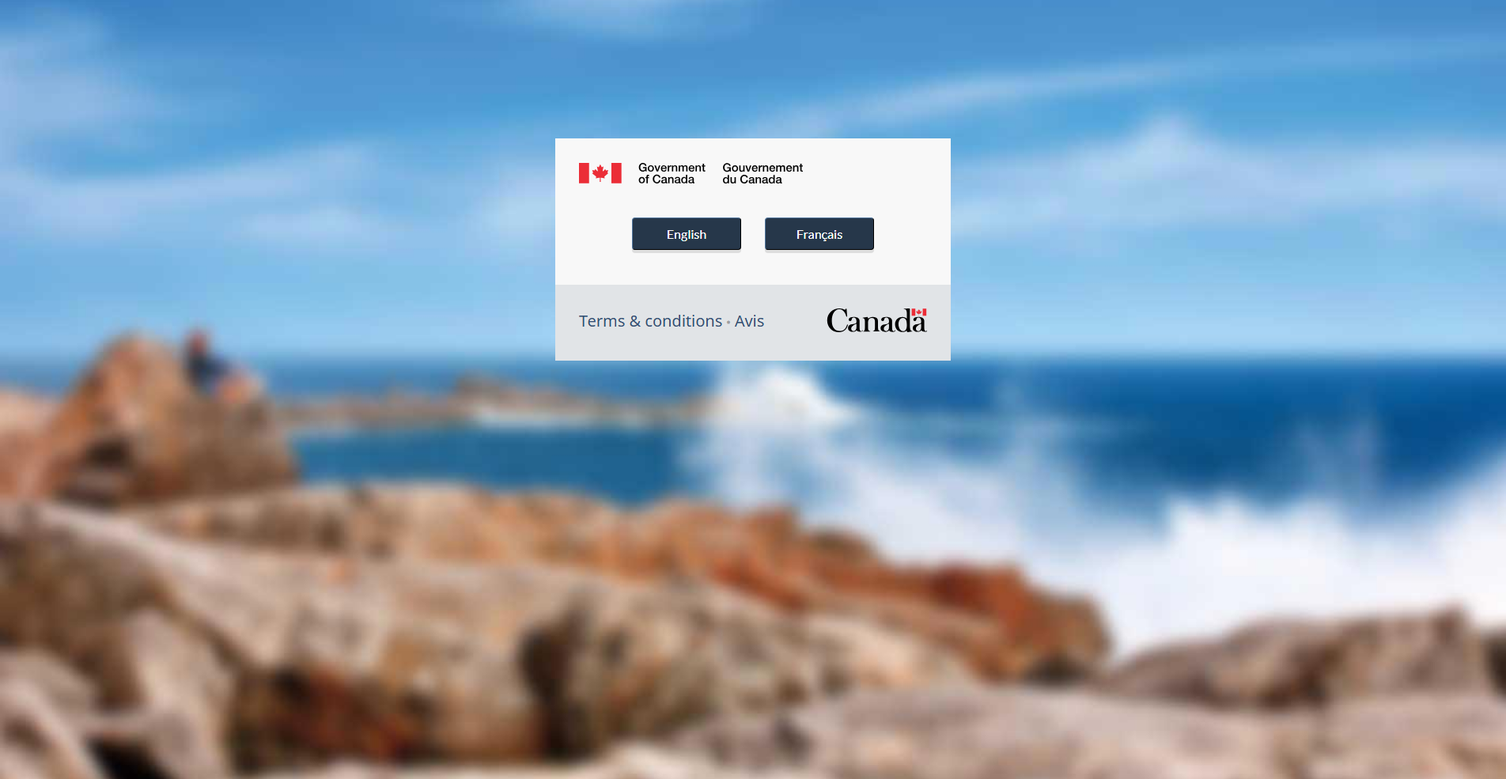button: (632, 217, 741, 250), (765, 217, 874, 250)
link: (579, 310, 722, 331), (735, 310, 764, 331)
